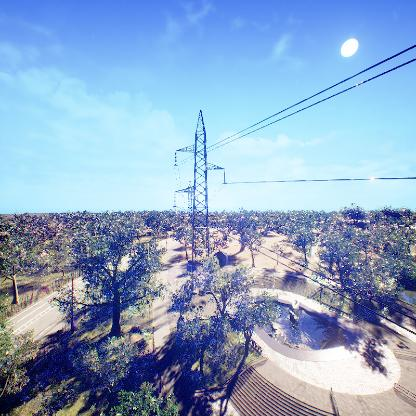tower: (172, 109, 230, 267)
